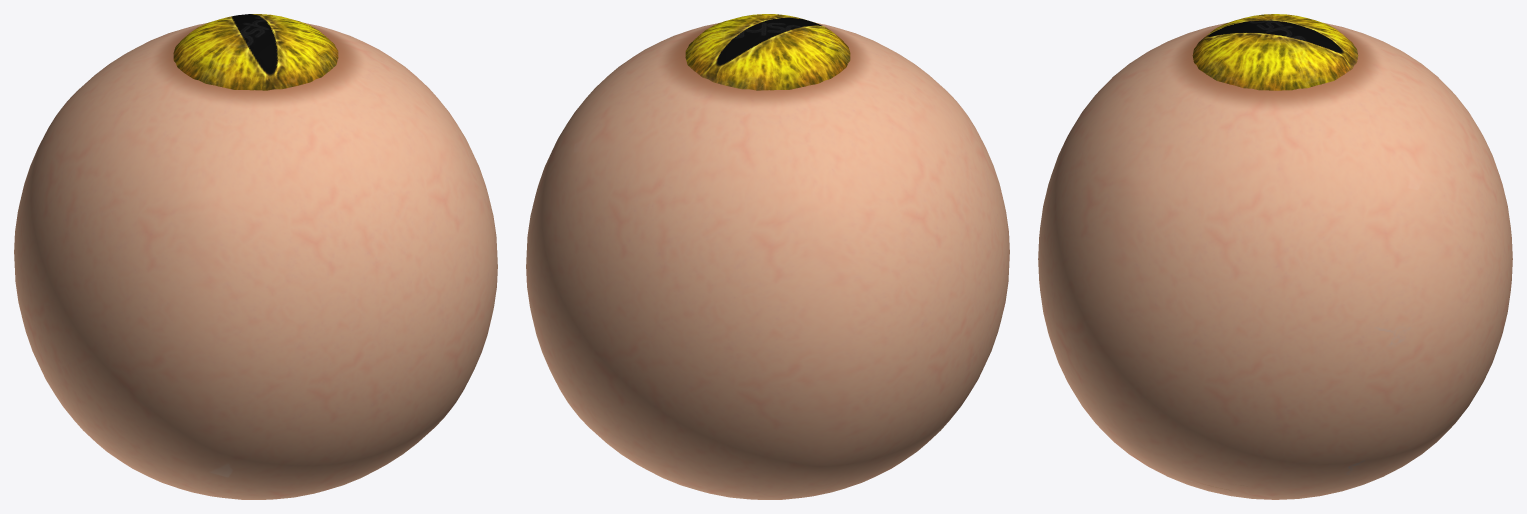
File: m_pupilTurret_textured.fbx
The picture shows the model from 3 angles, left to right: view 1: azimuth 30°, elevation 25°; view 2: azimuth 150°, elevation 25°; view 3: azimuth 270°, elevation 25°; orthographic projection.
Parts seen in each view (by area): view 1: turret_blockout.001; view 2: turret_blockout.001; view 3: turret_blockout.001.
Boxes of the visible parts, <box> form: turret_blockout.001: <box>14,14,497,499</box>; turret_blockout.001: <box>526,14,1009,499</box>; turret_blockout.001: <box>1038,14,1512,499</box>.
Size of the model in its own units: 58.31 by 60.55 by 58.31.
Materials: 1 (1 with a texture image).
